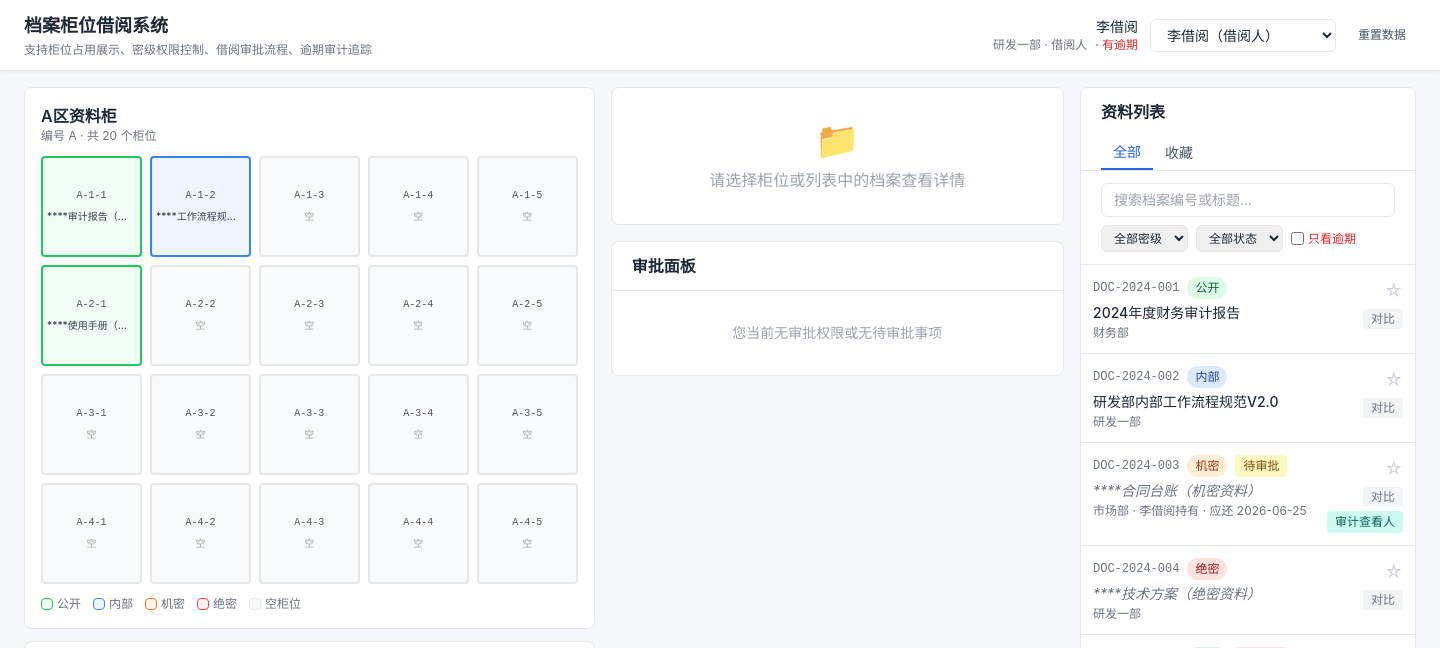
Test: 档案柜位借阅系统 - 核心业务场景验证 › 场景2：无权限用户看不到涉密详情 › 普通借阅人查看绝密档案详情时，标题和描述为脱敏内容
Select "李借阅（借阅人）" in the dropdown with test id "role-select" at (1243, 35), box [1150,18,1336,52]
Click the element with test id "archive-row-arc-4" at (1248, 590), box [1081,545,1415,634]
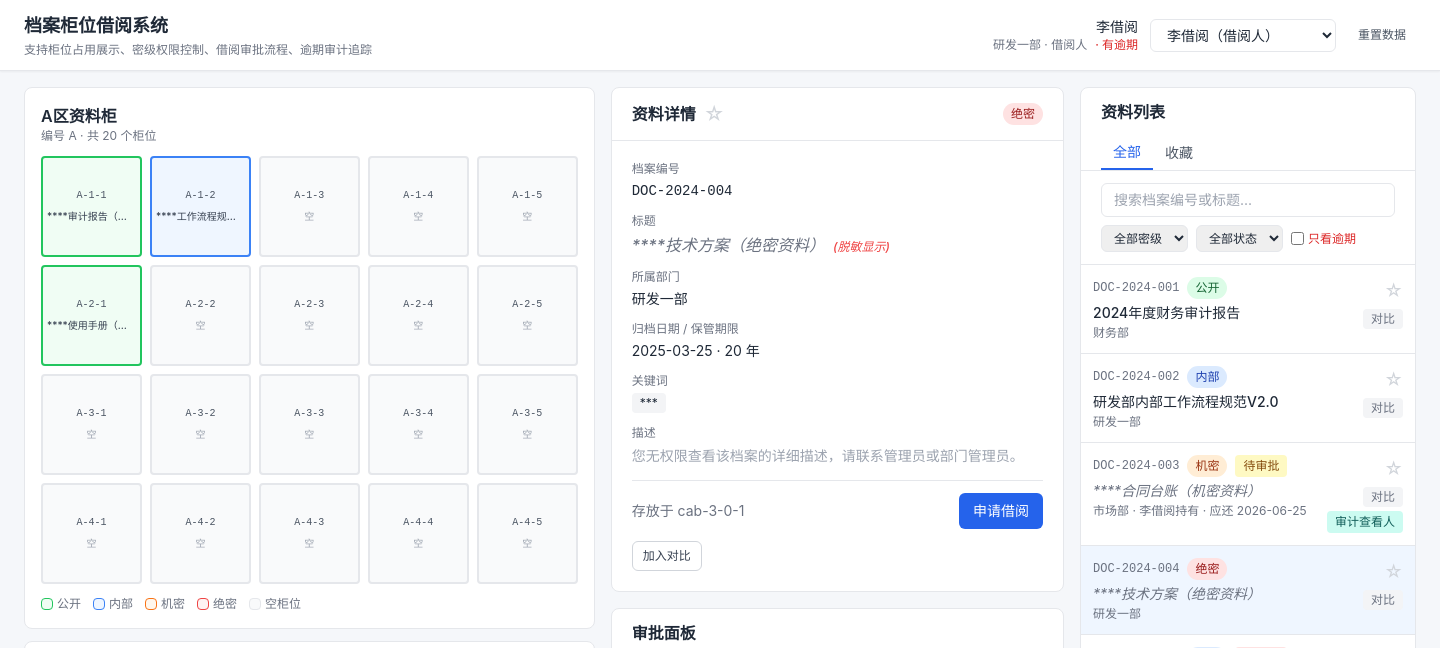
Expected: the element with test id "archive-detail" is shown, [611,87,1064,592]
Expected: the element with test id "archive-title" shows "****技术方案", [632,235,825,255]
Expected: the element with test id "archive-title" shows "(脱敏显示)", [833,239,890,254]
